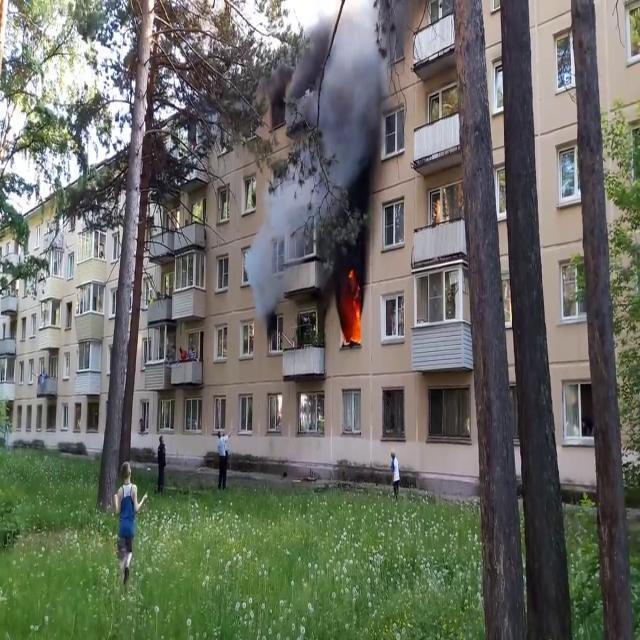Fire: (345, 278, 363, 346)
Smoke: (248, 2, 392, 304), (244, 165, 300, 328)
